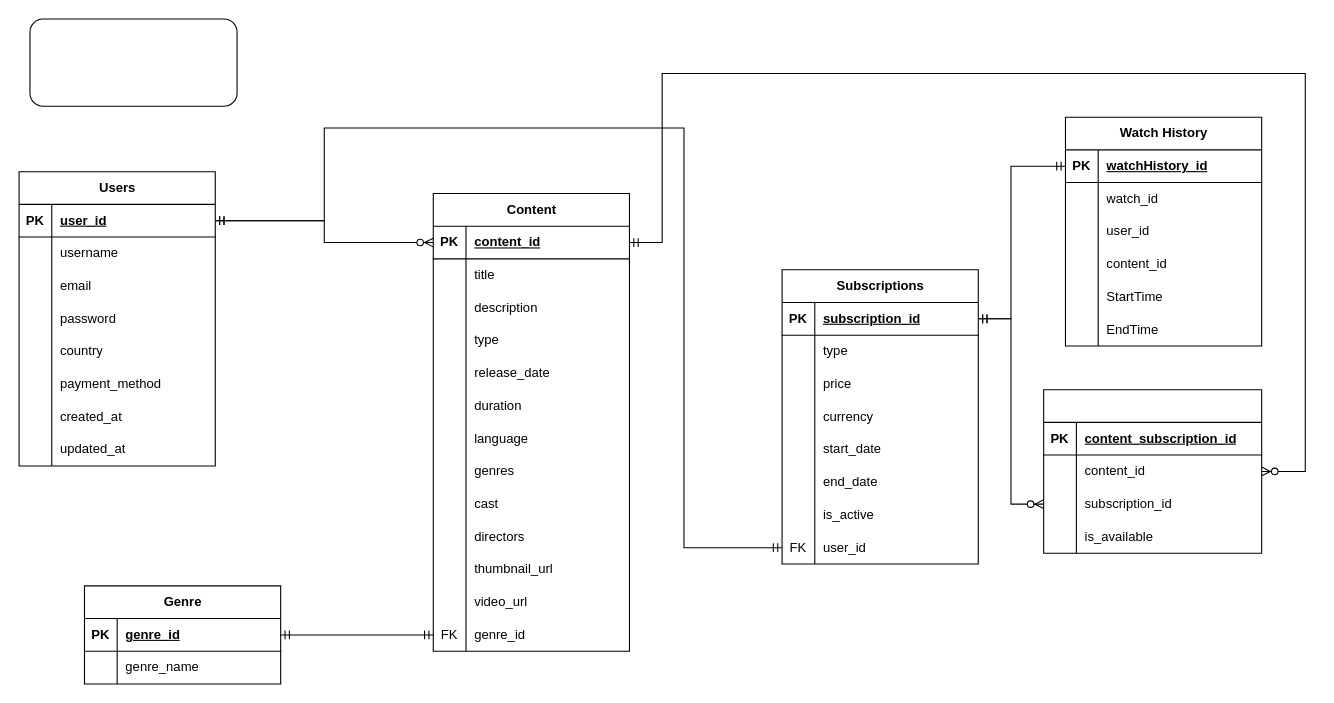
Image size: 1334x703. Some labels were removed from this diagram. Here are the shapes that lost their labels. From the top down, the box of each, then its label:
(29, 18, 237, 106): Hotstar Database Design
(1043, 389, 1262, 553): Content-Subscription Mappings
